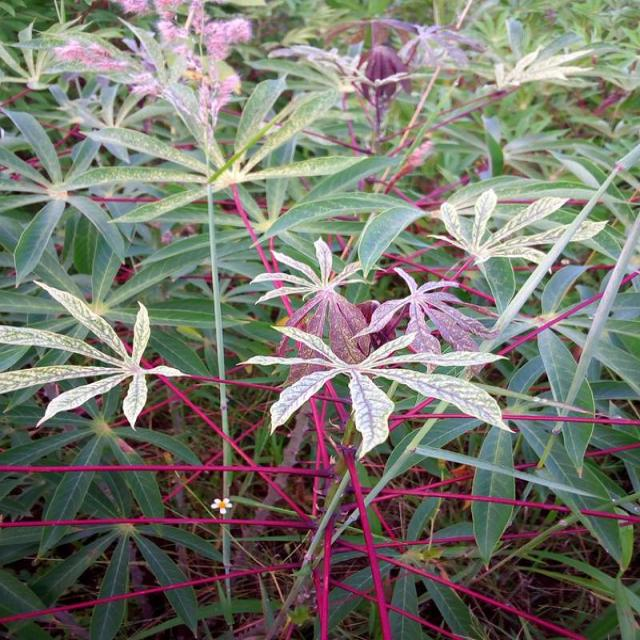cassava leaf: (0, 0, 638, 638), (228, 236, 514, 462)
